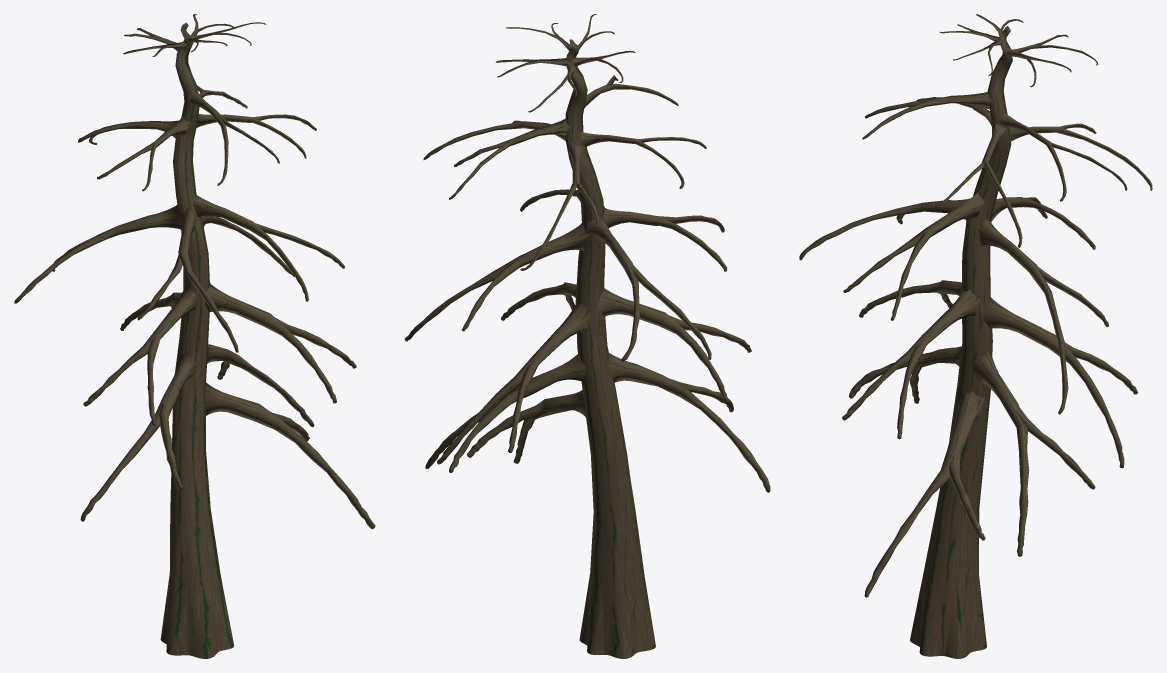
Rendered from DeadTree_5__go_village.glb.
3 renders of one model, left to right at view 1: azimuth 30°, elevation 25°; view 2: azimuth 150°, elevation 25°; view 3: azimuth 270°, elevation 25°, orthographic. The views are drawn at different scales.
Parts seen in each view (by area): view 1: DeadTree_5; view 2: DeadTree_5; view 3: DeadTree_5.
Part boxes in pixels (bbox=[...]): DeadTree_5: bbox=[14, 14, 375, 658]; DeadTree_5: bbox=[404, 14, 770, 658]; DeadTree_5: bbox=[799, 14, 1152, 658].
Bounding box in the file's own units: 8.36 × 16.44 × 8.41.
1 material, 1 textured.
